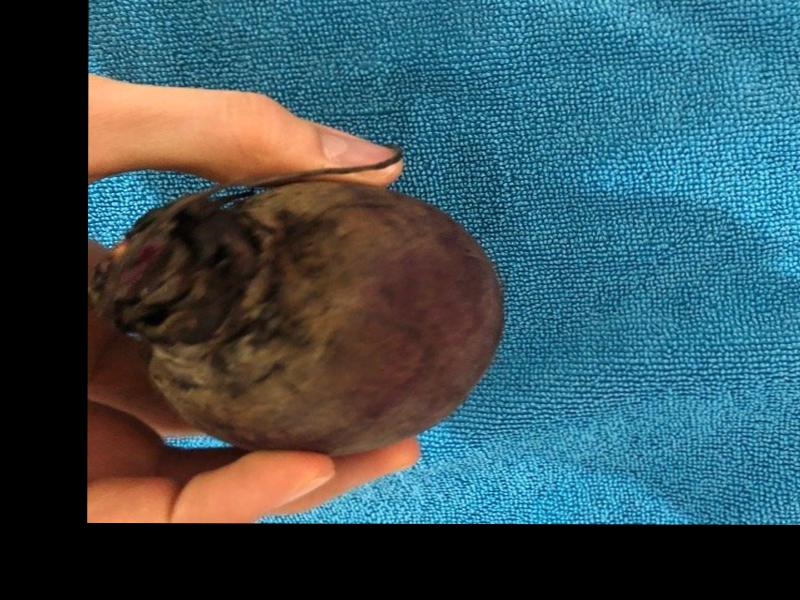Beet: (95, 145, 503, 456)
